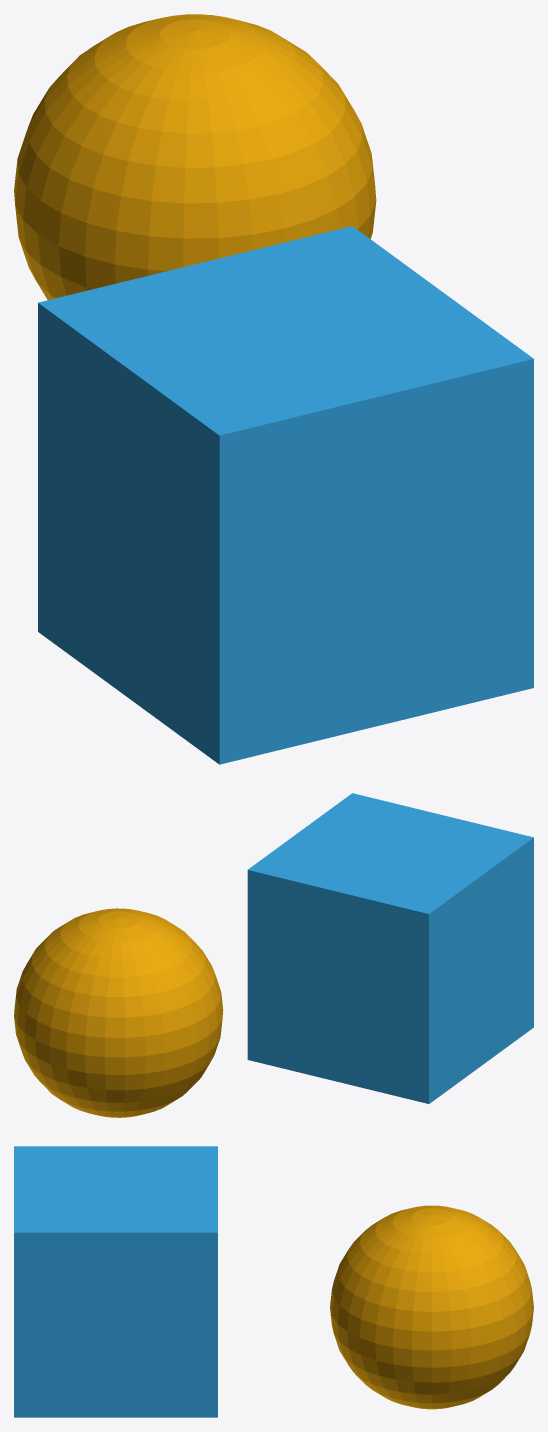
The model's file is animation_test.gltf.
3 renders of one model, top to bottom at view 1: azimuth 30°, elevation 25°; view 2: azimuth 150°, elevation 25°; view 3: azimuth 270°, elevation 25°, orthographic. The views are drawn at different scales.
Visible parts, largest first — view 1: Cube, Sphere; view 2: Cube, Sphere; view 3: Cube, Sphere.
Part boxes in pixels (x1,y1,x2,y2): Cube: (38,226,533,764); Sphere: (14,14,376,299); Cube: (247,793,533,1103); Sphere: (14,908,223,1117); Cube: (14,1146,217,1417); Sphere: (330,1205,533,1409).
Size of the model in its own units: 3.21 by 2.29 by 5.1.
